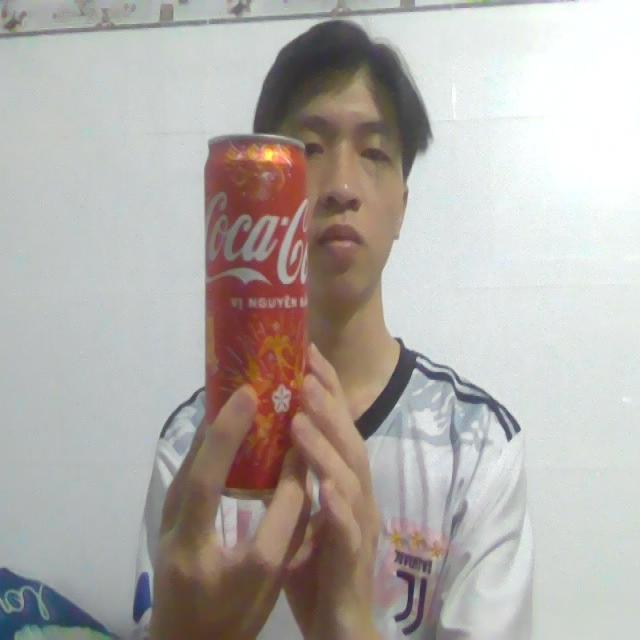cocacola: (190, 125, 328, 503)
